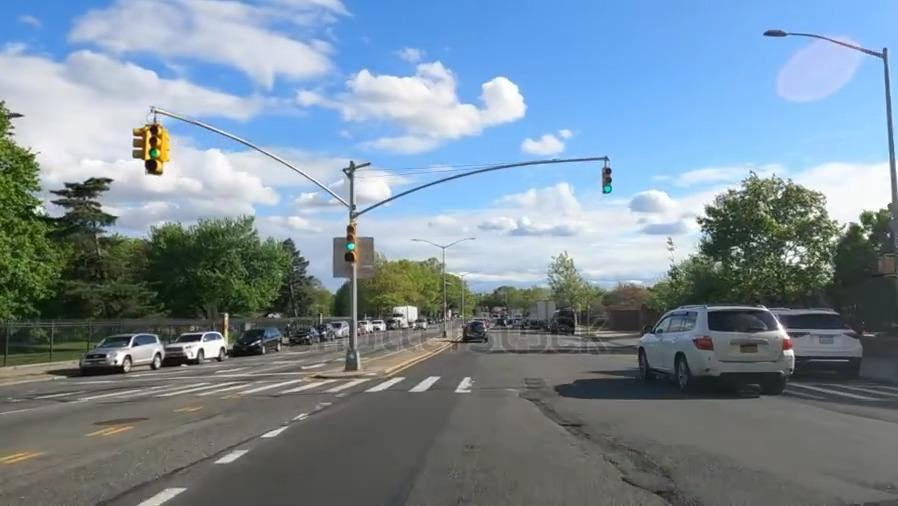car: (628, 308, 799, 396), (779, 305, 872, 371), (70, 338, 169, 371), (171, 329, 227, 363), (233, 325, 284, 354), (462, 320, 488, 343), (293, 325, 315, 349), (332, 318, 345, 340), (317, 323, 329, 339)
pedestrian: (27, 378, 897, 399)
pothole: (557, 407, 589, 438)
road damage: (606, 453, 679, 500), (520, 372, 554, 409)
traffic light: (129, 121, 179, 181), (339, 213, 363, 263), (587, 157, 618, 195)
